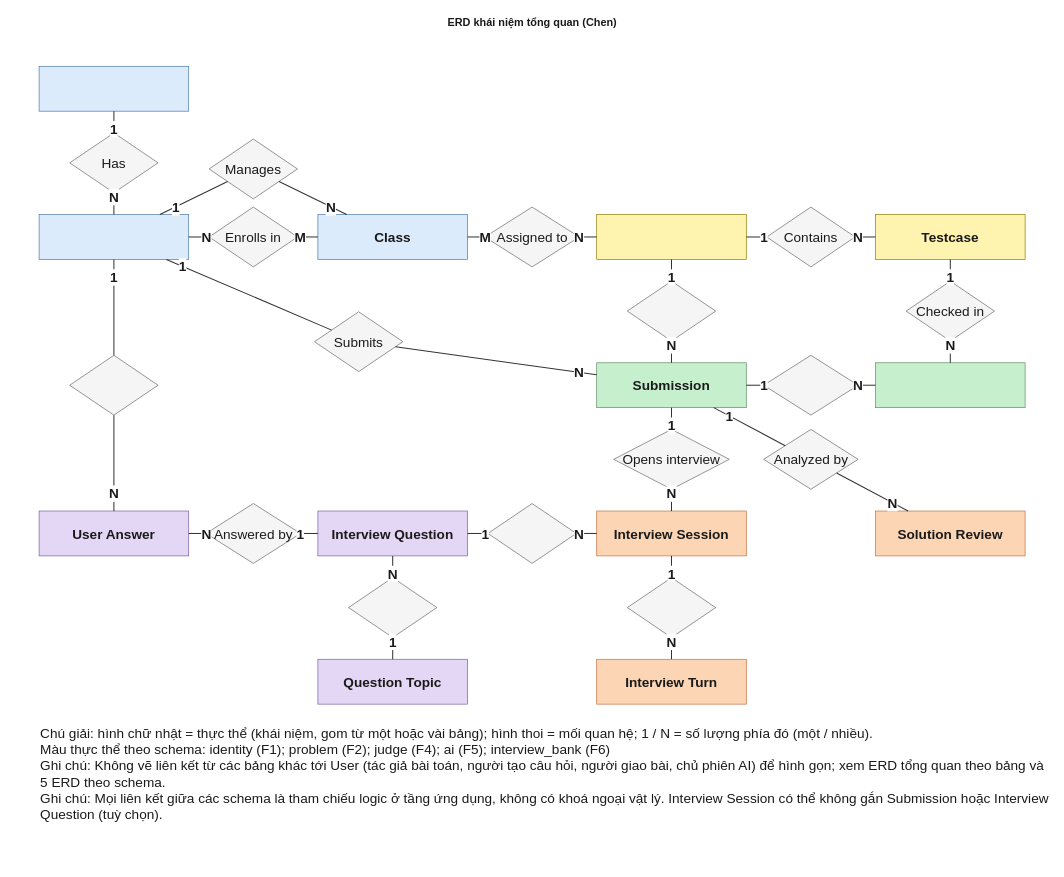
Some shapes in this 1064 by 877 pixel diagram are drawn without their labels. Here are the shapes that lost their labels. From the top down, the box of each, then its label:
(38, 66, 189, 111): Role
(38, 214, 189, 259): User
(596, 214, 746, 259): Problem
(627, 280, 716, 341): Receives
(69, 355, 158, 415): Practices
(763, 355, 858, 415): Has results
(875, 362, 1025, 408): Testcase Result
(487, 503, 576, 563): Asked in
(348, 577, 437, 638): Groups
(627, 577, 716, 638): Has turns
